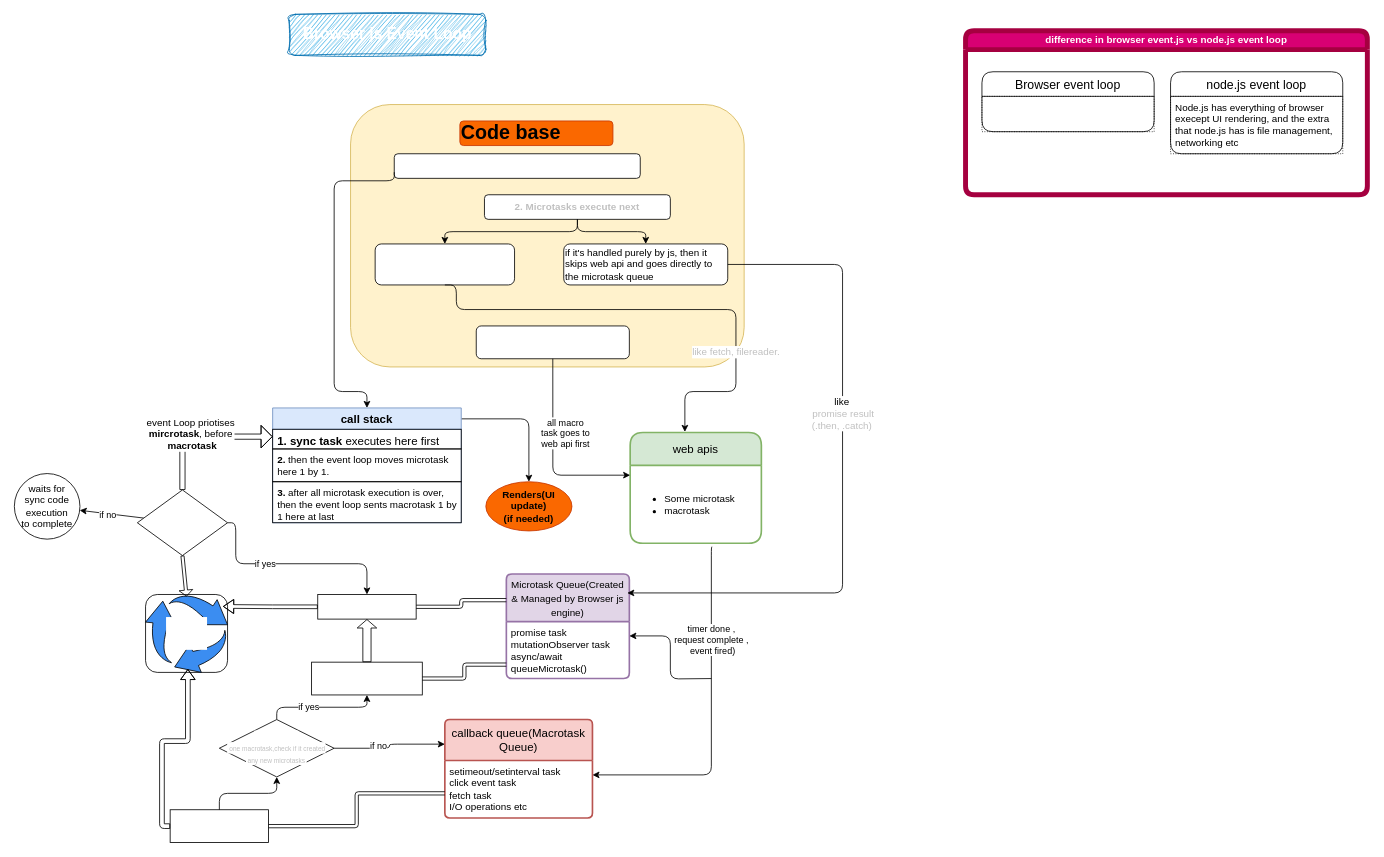
This 1384x857 diagram has some shape labels left out. Here are the shapes that lost their labels. From the top down, the centre of each, then its label:
point (1067, 114): Browser has one extra thing that is UI rendering/updating
point (516, 165): Synchronous code executes first
point (444, 264): if it's handled by the browser, if uses web api
point (552, 342): 3. Macrotasks executes at last
point (182, 522): check if call stack is empty
point (366, 606): after all the sync code has been executed
point (186, 633): event loop
point (366, 678): execute ALL of them before next macrotask
point (219, 826): after the microtask queue is empty
